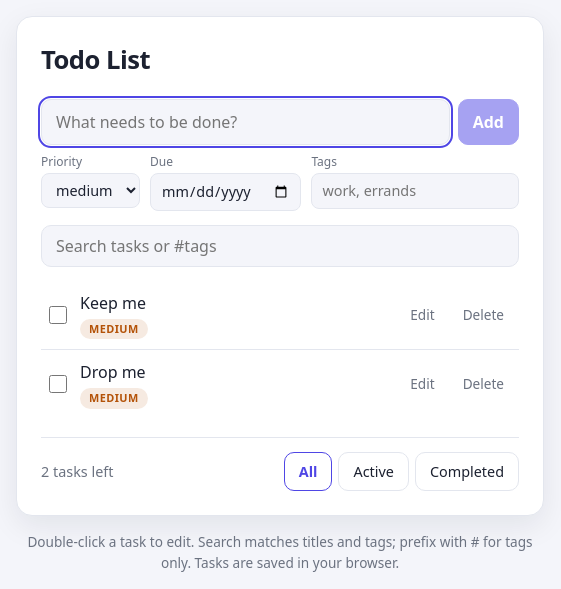
Scenario: completing, editing and deleting › deletes a single task
Click the button "Delete" in the row of "Drop me".
click(483, 384)  # box [452,369,515,400]
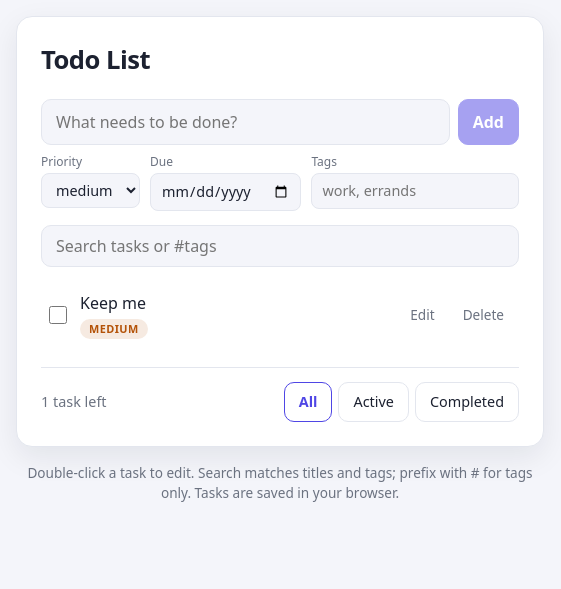
Expected: the text "Keep me" is shown, [80,292,146,314]
Result: the text "Drop me" is gone
Result: the message reads "1 task left" at [41,391,107,413]
